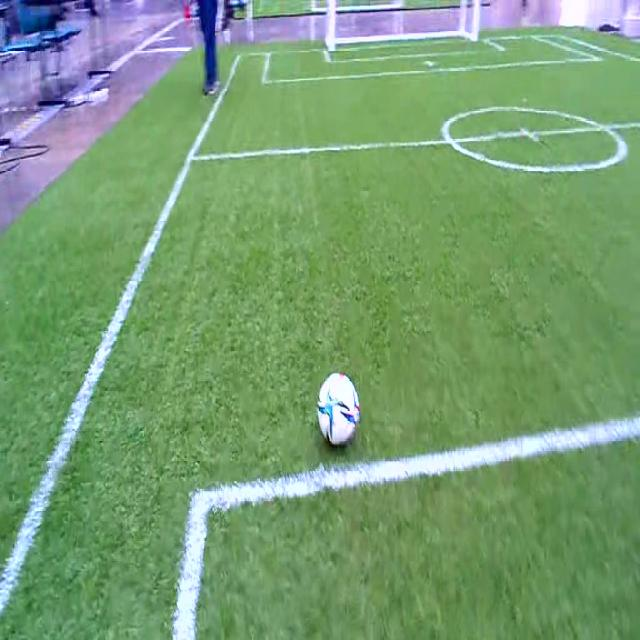ball: (318, 373, 360, 445)
